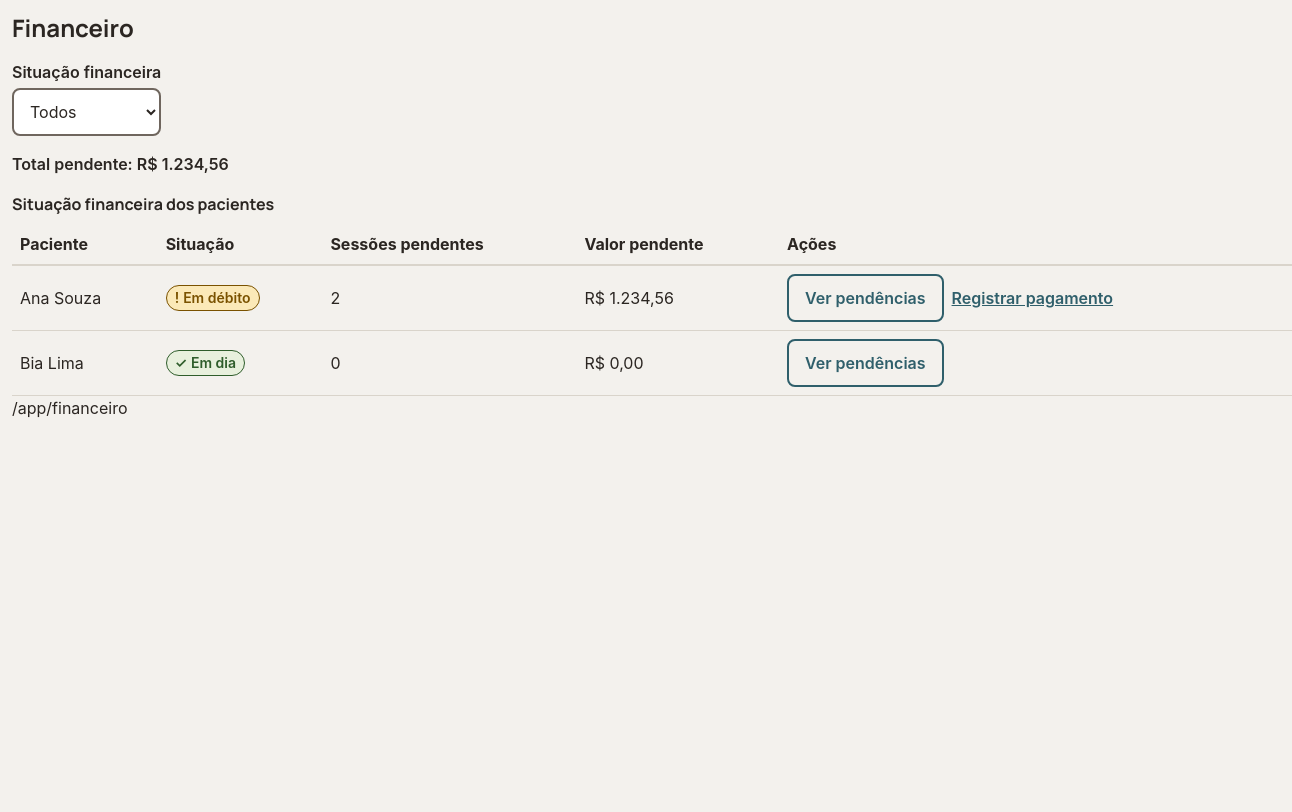
Scenario: Financeiro: sessões pendentes do paciente (FIN-07) › "Ver pendências" guarda o paciente na URL e lista as sessões com valor em reais
Expected: the text "Ana Souza" is shown, 12,265 -> 158,330
What coordinates should you click on to do the following:
click the button with aria-label "Ver pendências de Ana Souza"
I would click on:
 (865, 298)
Its box is 787,274 -> 944,322.
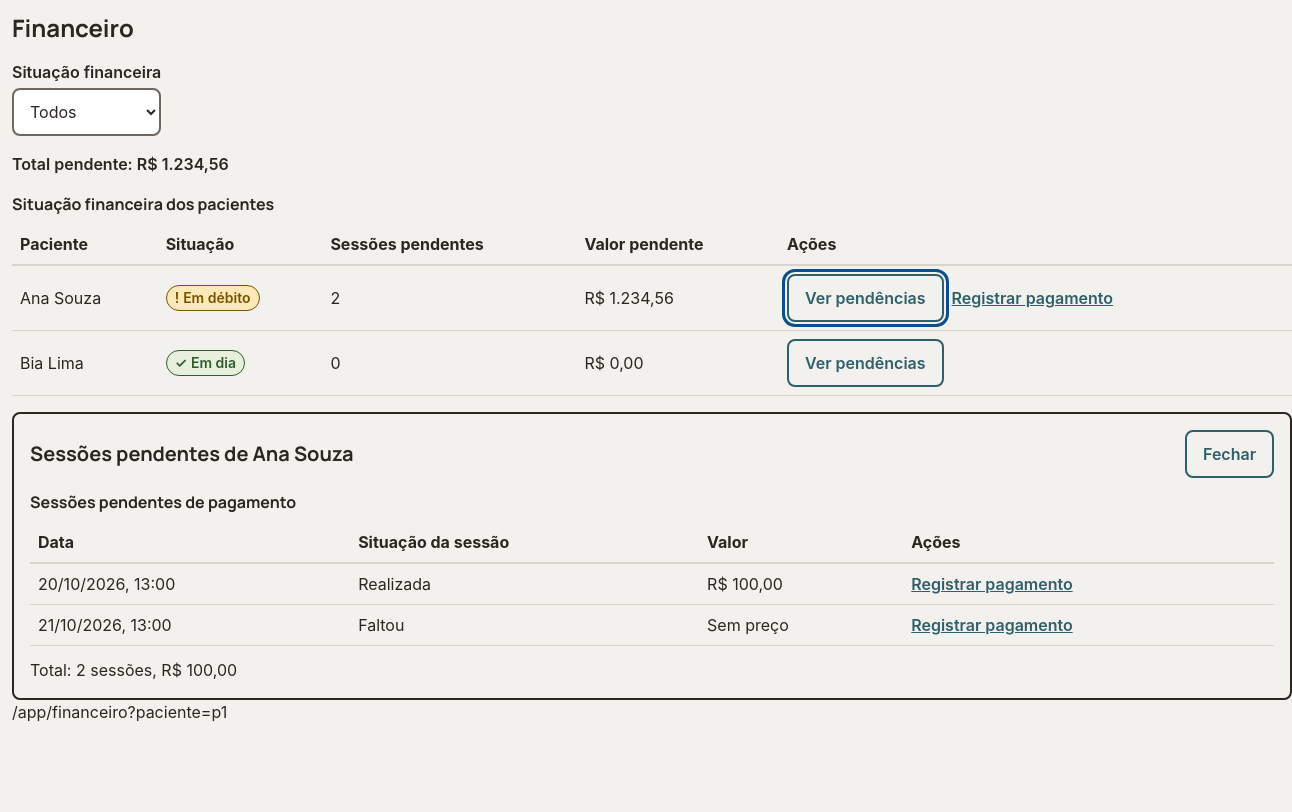
Expected: the text with test id "loc" reads "/app/financeiro?paciente=p1", 12,702 -> 227,722
Expected: the text "Realizada" is shown, 350,563 -> 699,604
Expected: the text "R$ 100,00" is shown, 699,563 -> 903,604
